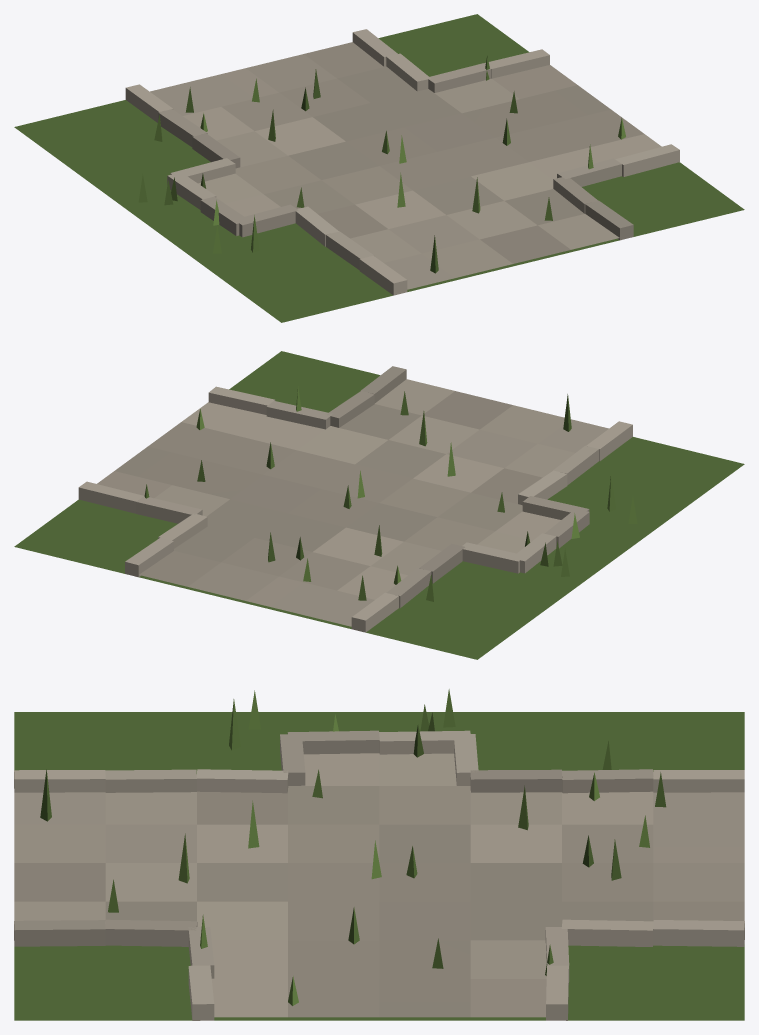
File: cobble-t.glb
3 views of the same model, one above another, from view 1: azimuth 30°, elevation 25°; view 2: azimuth 150°, elevation 25°; view 3: azimuth 270°, elevation 25° (orthographic). The views are drawn at different scales.
Visible parts, largest first — view 1: ground/cobble-t; view 2: ground/cobble-t; view 3: ground/cobble-t.
Part boxes in pixels (box(x1,y1,x2,y2)): ground/cobble-t: box(14, 14, 744, 322); ground/cobble-t: box(14, 351, 744, 659); ground/cobble-t: box(14, 689, 744, 1020).
Size of the model in its own units: 4 by 0.3265 by 4.
